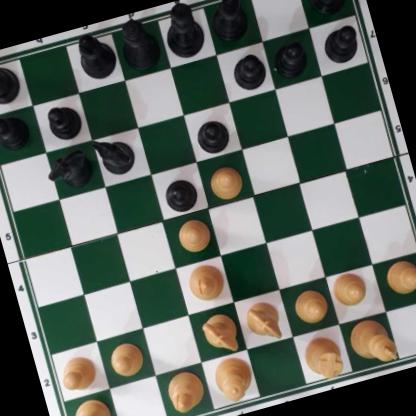black-bishop: (72, 25, 119, 81), (205, 0, 253, 46)
black-king: (160, 0, 210, 63)
black-knight: (46, 146, 95, 193), (90, 131, 137, 178)
black-pawn: (319, 22, 362, 67), (191, 112, 234, 156), (43, 99, 83, 143), (270, 36, 310, 79), (162, 174, 201, 215), (229, 52, 268, 93), (0, 111, 33, 155)
black-queen: (113, 13, 165, 73)
black-rook: (0, 50, 26, 112), (301, 0, 355, 18)
white-bishop: (162, 367, 207, 416), (184, 258, 228, 303)
white-king: (346, 313, 398, 371)
white-knight: (200, 311, 243, 357), (242, 298, 285, 344)
white-pawn: (54, 351, 101, 394), (105, 338, 147, 379), (330, 268, 370, 310), (205, 161, 246, 201), (173, 213, 213, 254), (291, 285, 331, 326), (381, 255, 416, 297)
white-queen: (210, 351, 257, 408)
white-rook: (300, 333, 347, 383), (62, 394, 116, 416)
